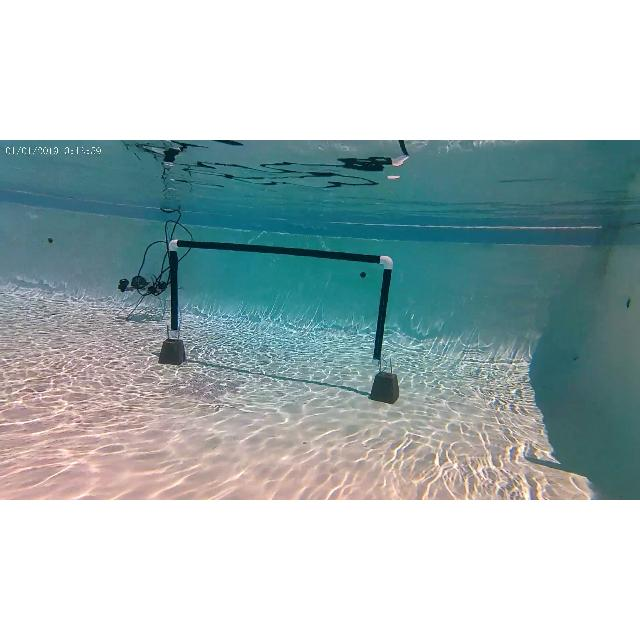prequal gate: (168, 238, 394, 364)
prequal gate leg l: (164, 239, 182, 333)
prequal gate leg r: (372, 252, 392, 370)
